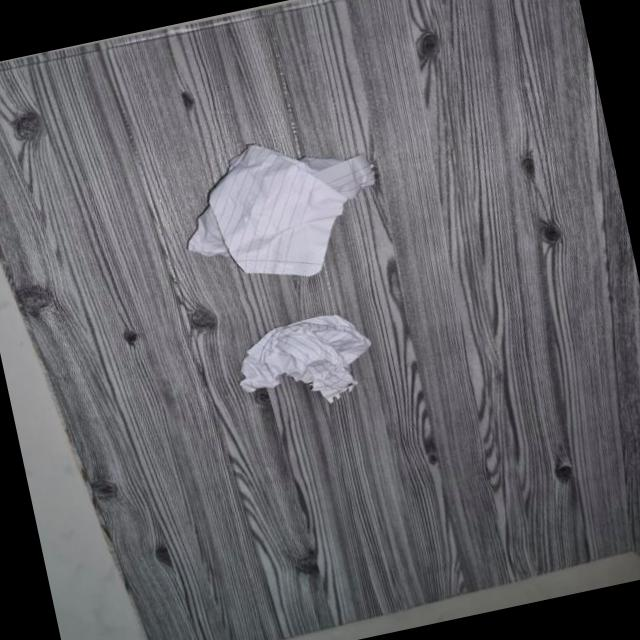cardboard paper: (187, 144, 378, 279), (190, 146, 376, 276), (240, 314, 374, 405)
